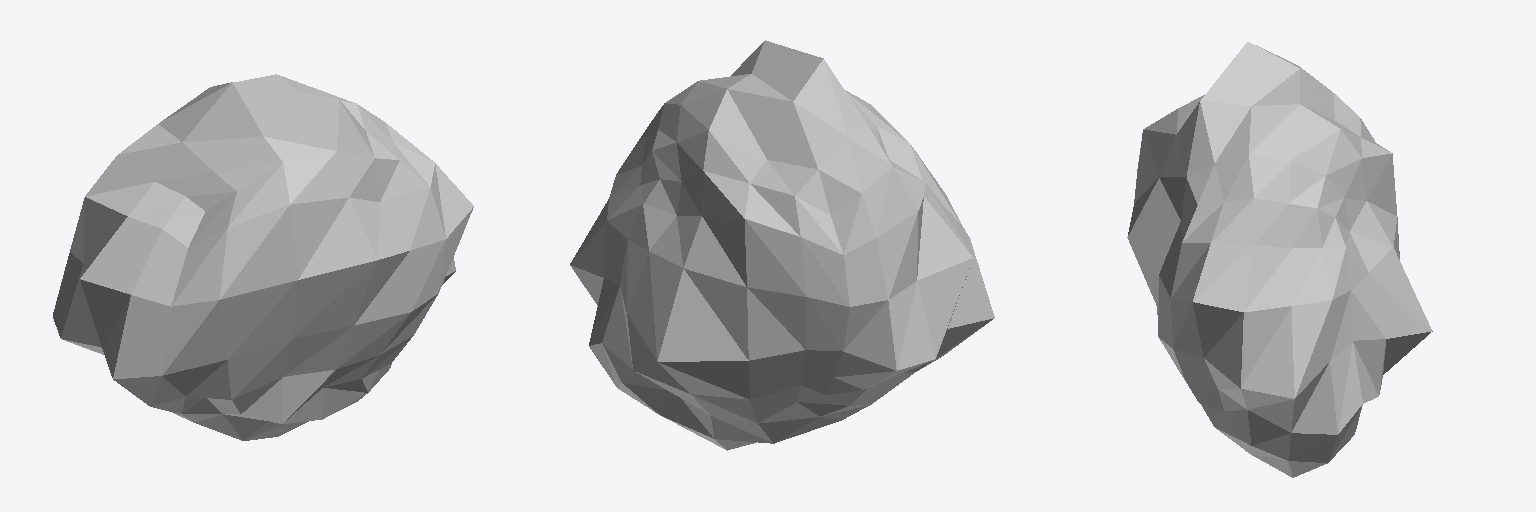
Rendered from boulder1.obj.
3 views of the same model, side by side, from view 1: azimuth 30°, elevation 25°; view 2: azimuth 150°, elevation 25°; view 3: azimuth 270°, elevation 25° (orthographic).
Parts seen in each view (by area): view 1: Surface1, Surface6, Surface3, Surface4, Surface5; view 2: Surface2, Surface3, Surface6, Surface5, Surface4, Surface1; view 3: Surface5, Surface3, Surface2, Surface1, Surface4.
Part boxes in pixels (x1,y1,x2,y2): Surface1: (162, 151, 445, 423); Surface6: (53, 156, 204, 413); Surface3: (117, 74, 399, 211); Surface4: (172, 365, 389, 440); Surface5: (385, 122, 473, 367); Surface2: (602, 171, 849, 423); Surface3: (652, 40, 891, 215); Surface6: (826, 160, 994, 405); Surface5: (570, 105, 663, 387); Surface4: (618, 383, 869, 450); Surface1: (845, 90, 961, 224); Surface5: (1171, 198, 1362, 462); Surface3: (1177, 42, 1361, 216); Surface2: (1335, 118, 1432, 403); Surface1: (1127, 108, 1197, 379); Surface4: (1201, 404, 1327, 477).
Size of the model in its own units: 16.77 by 16.41 by 11.62.